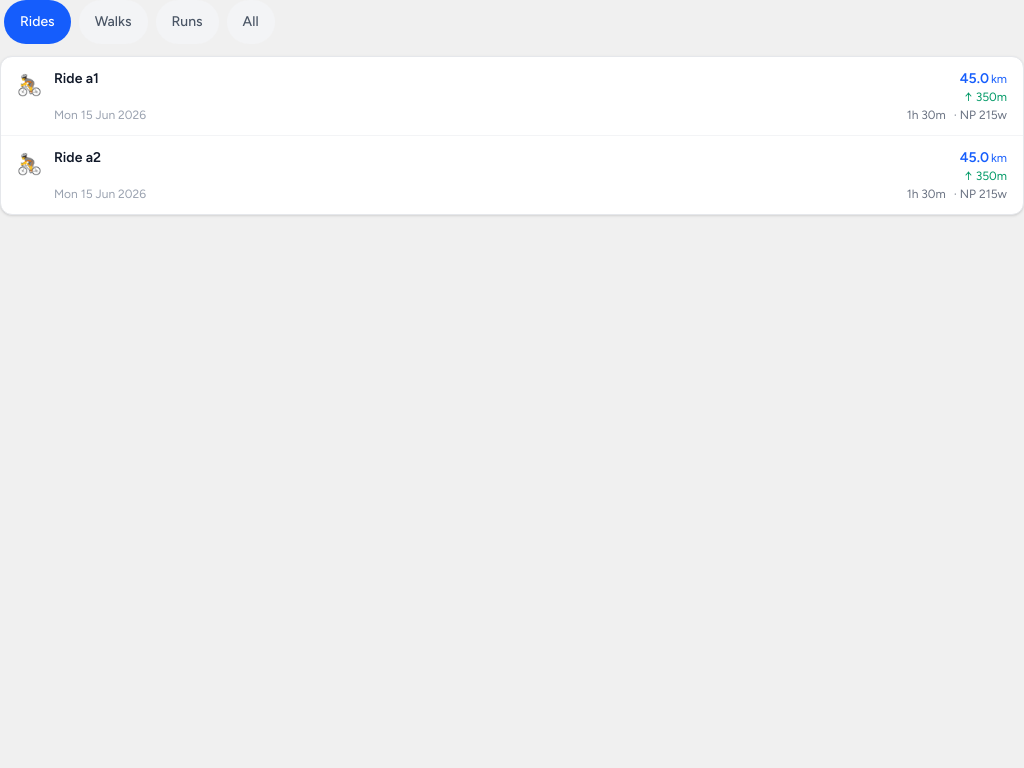
ActivityLogView › opens ActivityDetailModal when a row is clicked
Click the button "Ride a1" at (76, 78), box [1,57,1023,136]
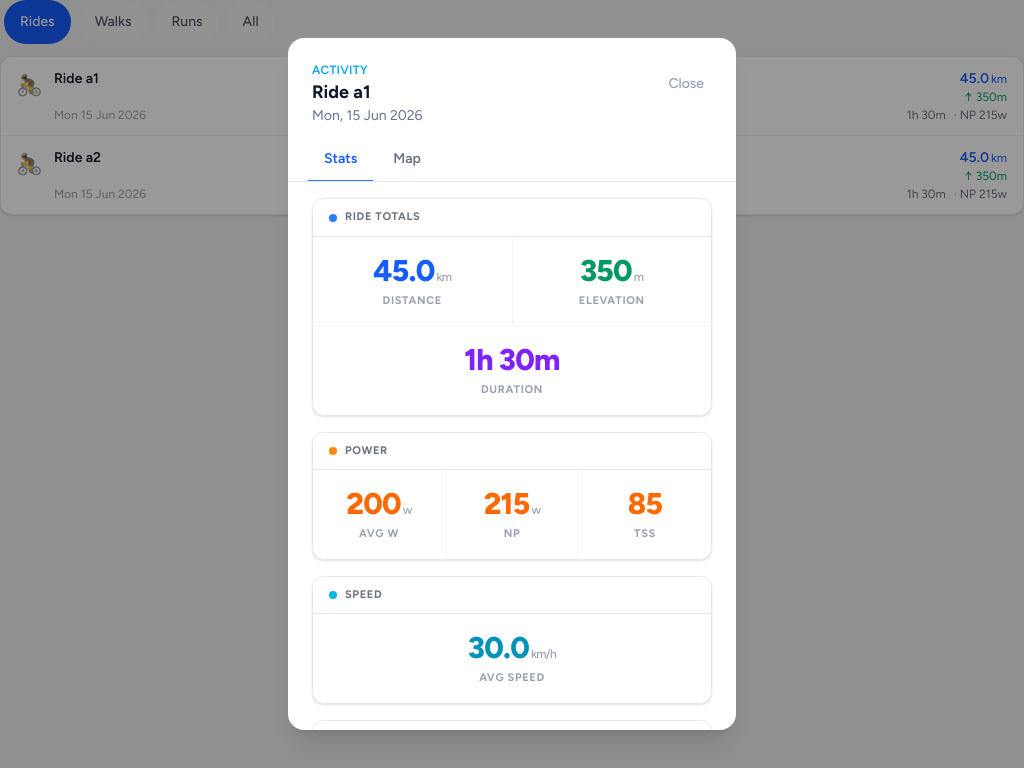
expect the text "Activity" is shown: met, box [312,63,368,77]
